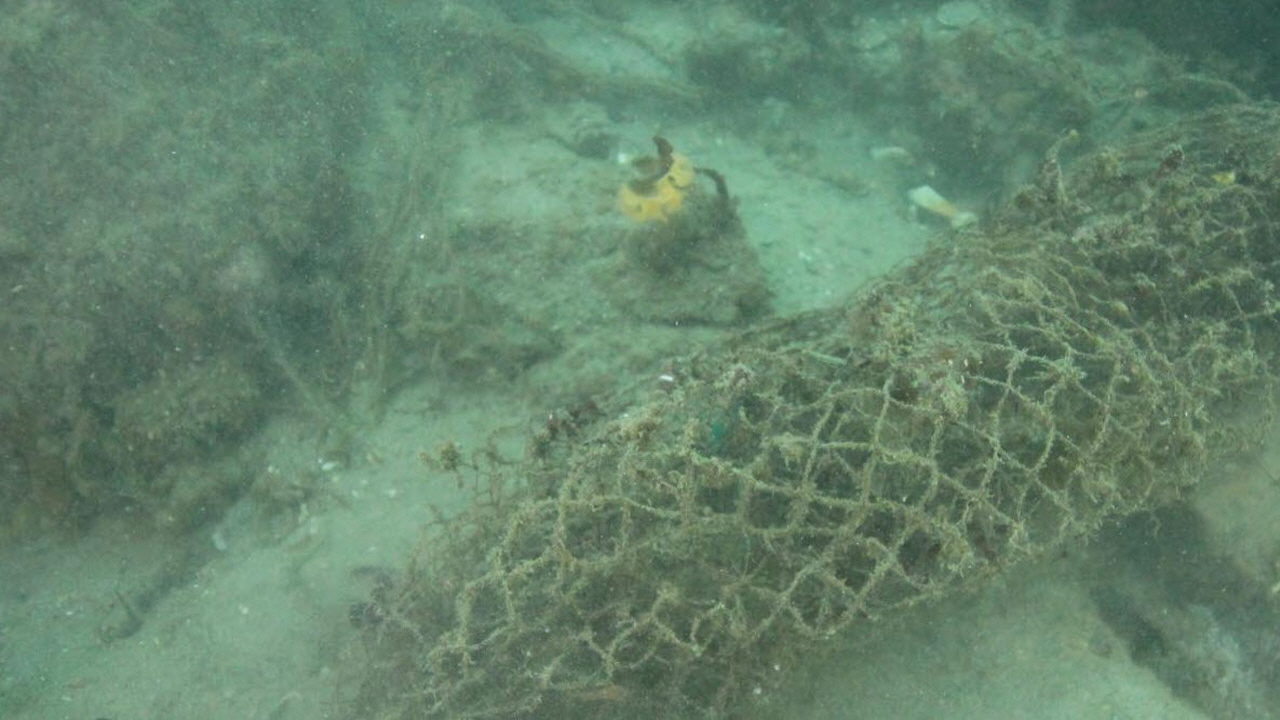fish net: (463, 176, 1280, 720)
